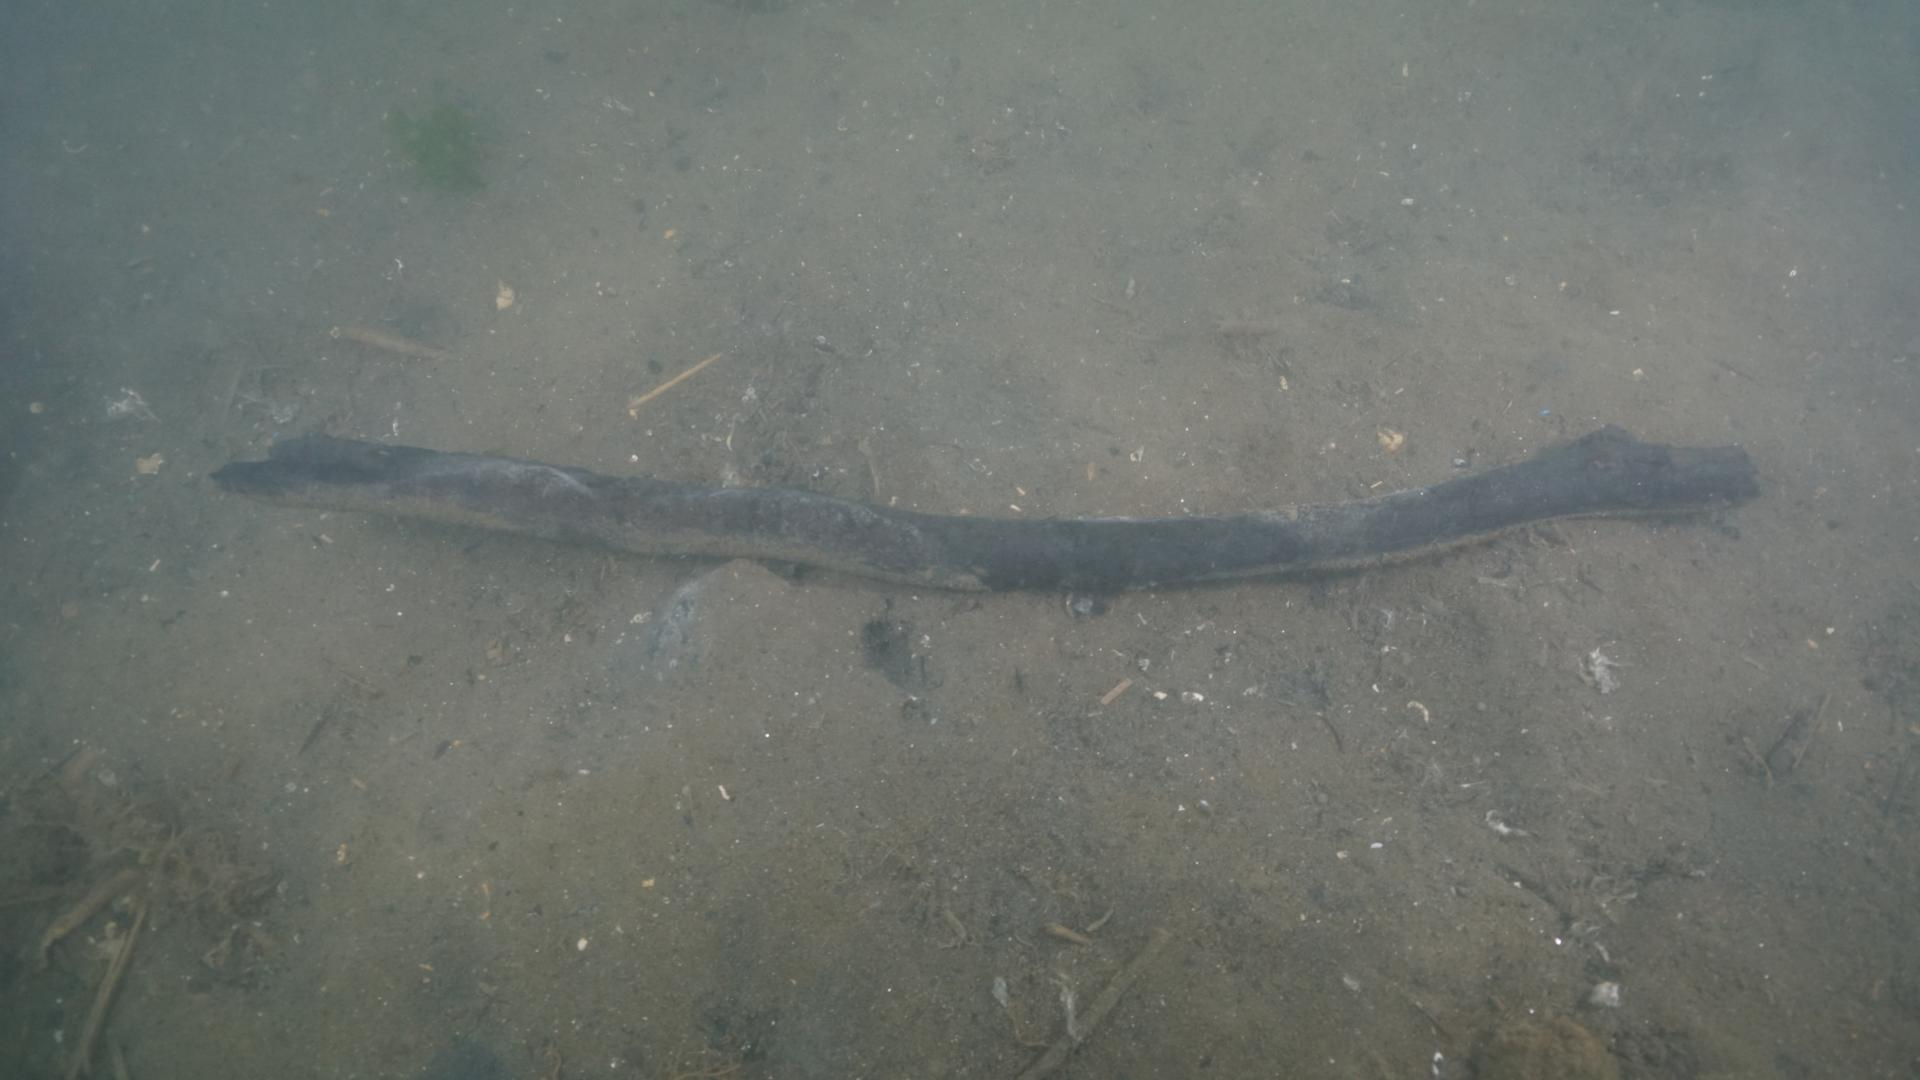wood: (206, 421, 1762, 587)
